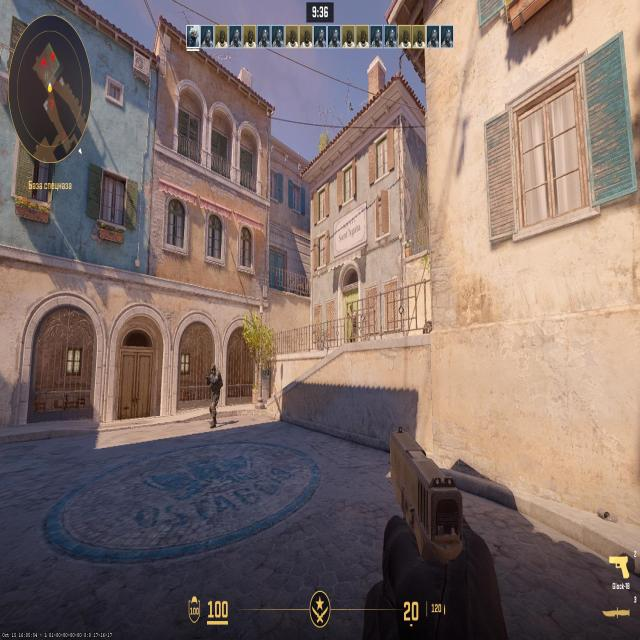CT: (210, 364, 221, 425)
CT_heat: (211, 367, 215, 375)
T: (350, 309, 355, 339)
T_heat: (351, 311, 353, 315)
